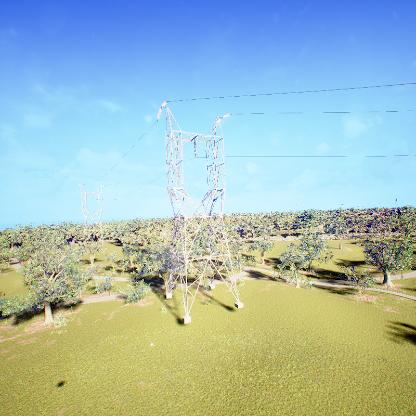tower: (156, 97, 243, 322)
